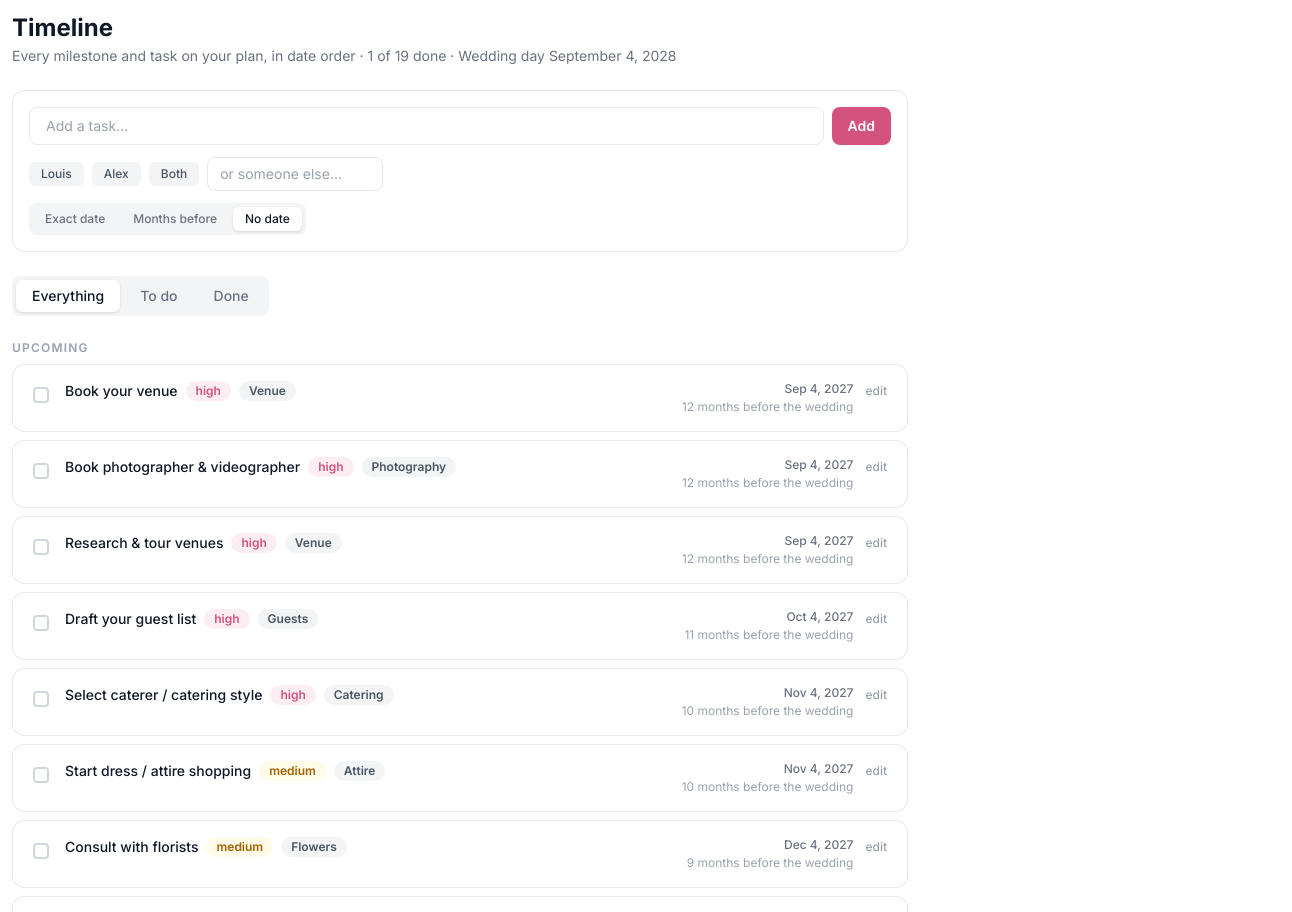
Timeline — editing the task itself › falls back to a placeholder category rather than saving a blank one
Click the button named "Edit \"Book your venue\"" at x=876, y=391, box [865,383,887,399]
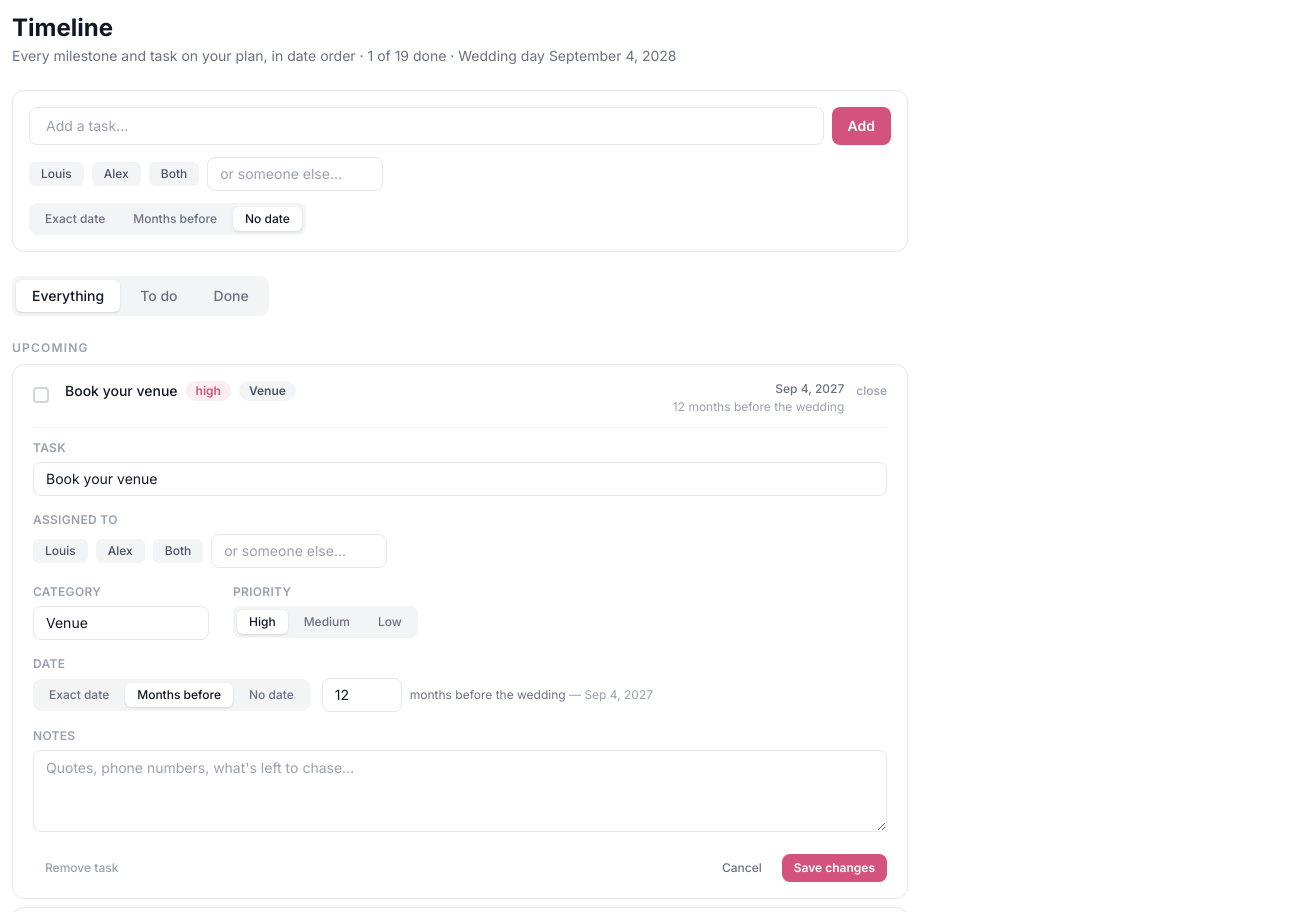
Clear the field named "Book your venue category" at x=121, y=623, box [33,606,209,640]
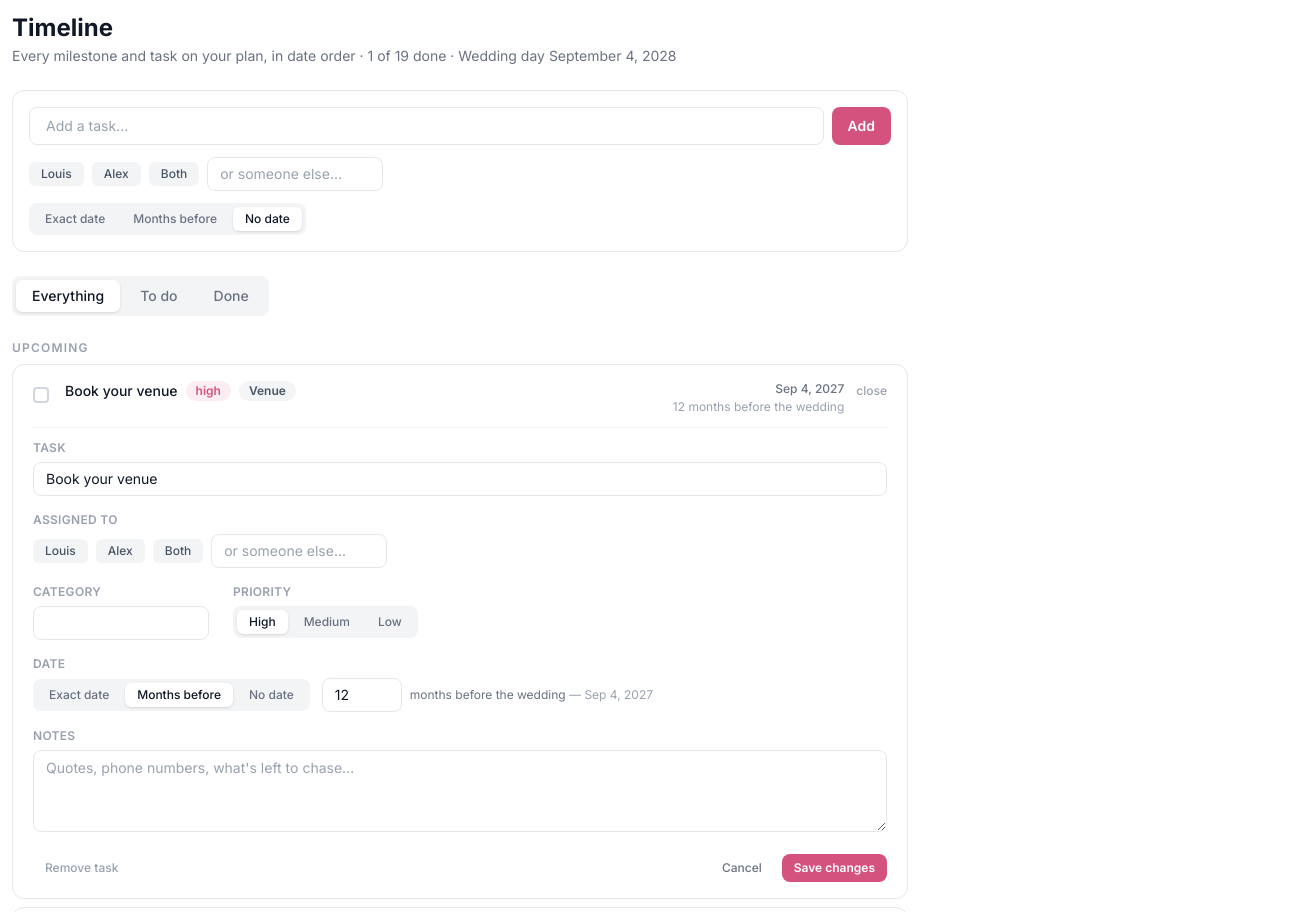
Click the button "Save changes" at x=834, y=868, box [782,854,887,882]
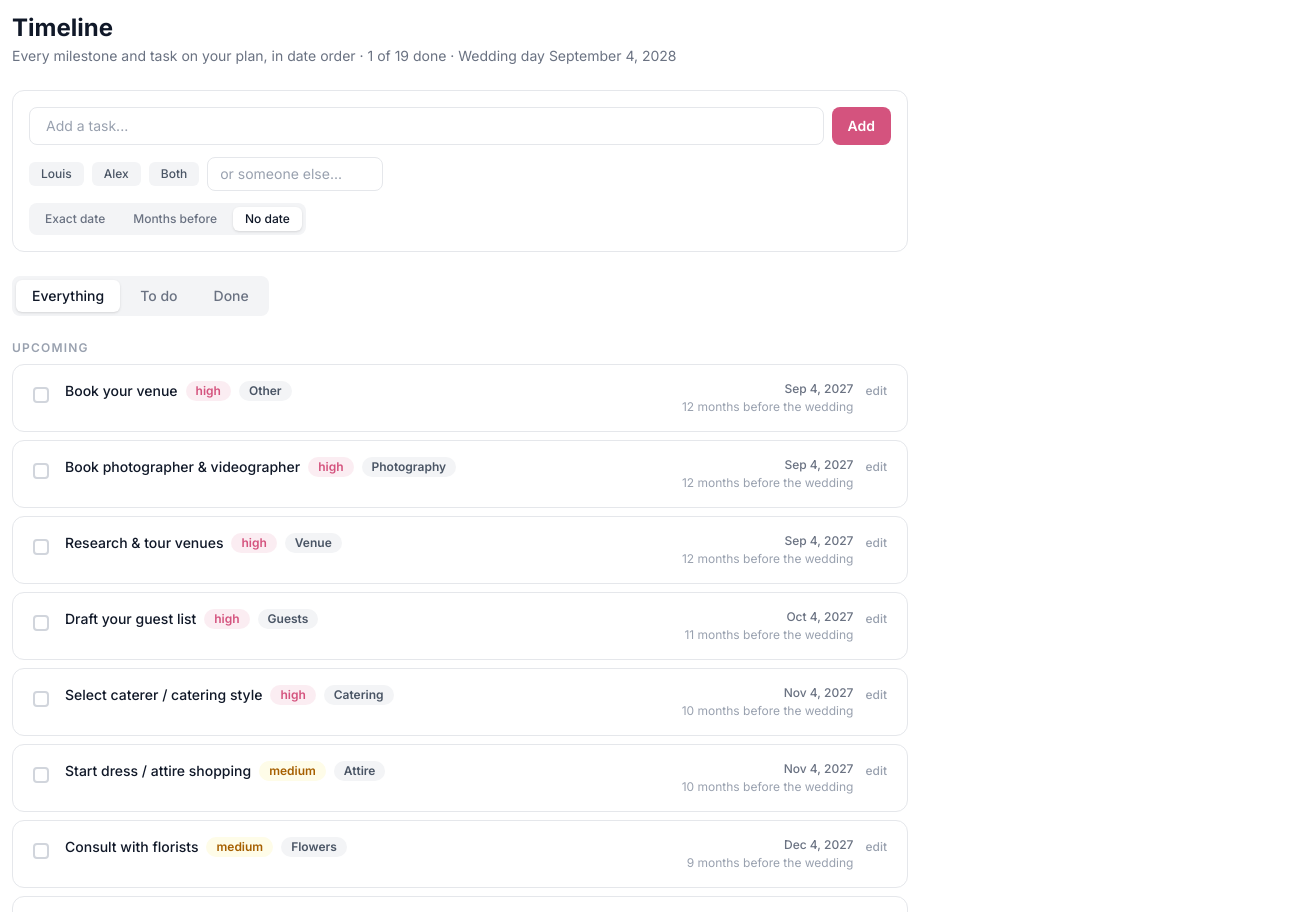
expect the text "Other" is shown: met, box [239,381,292,401]
